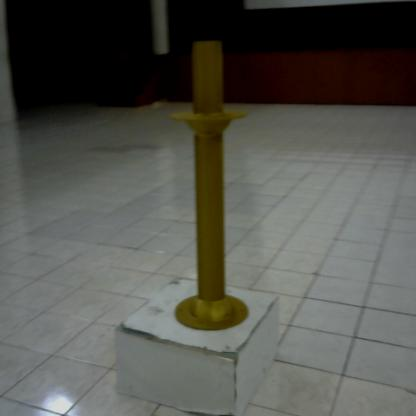pole: (164, 37, 260, 342)
